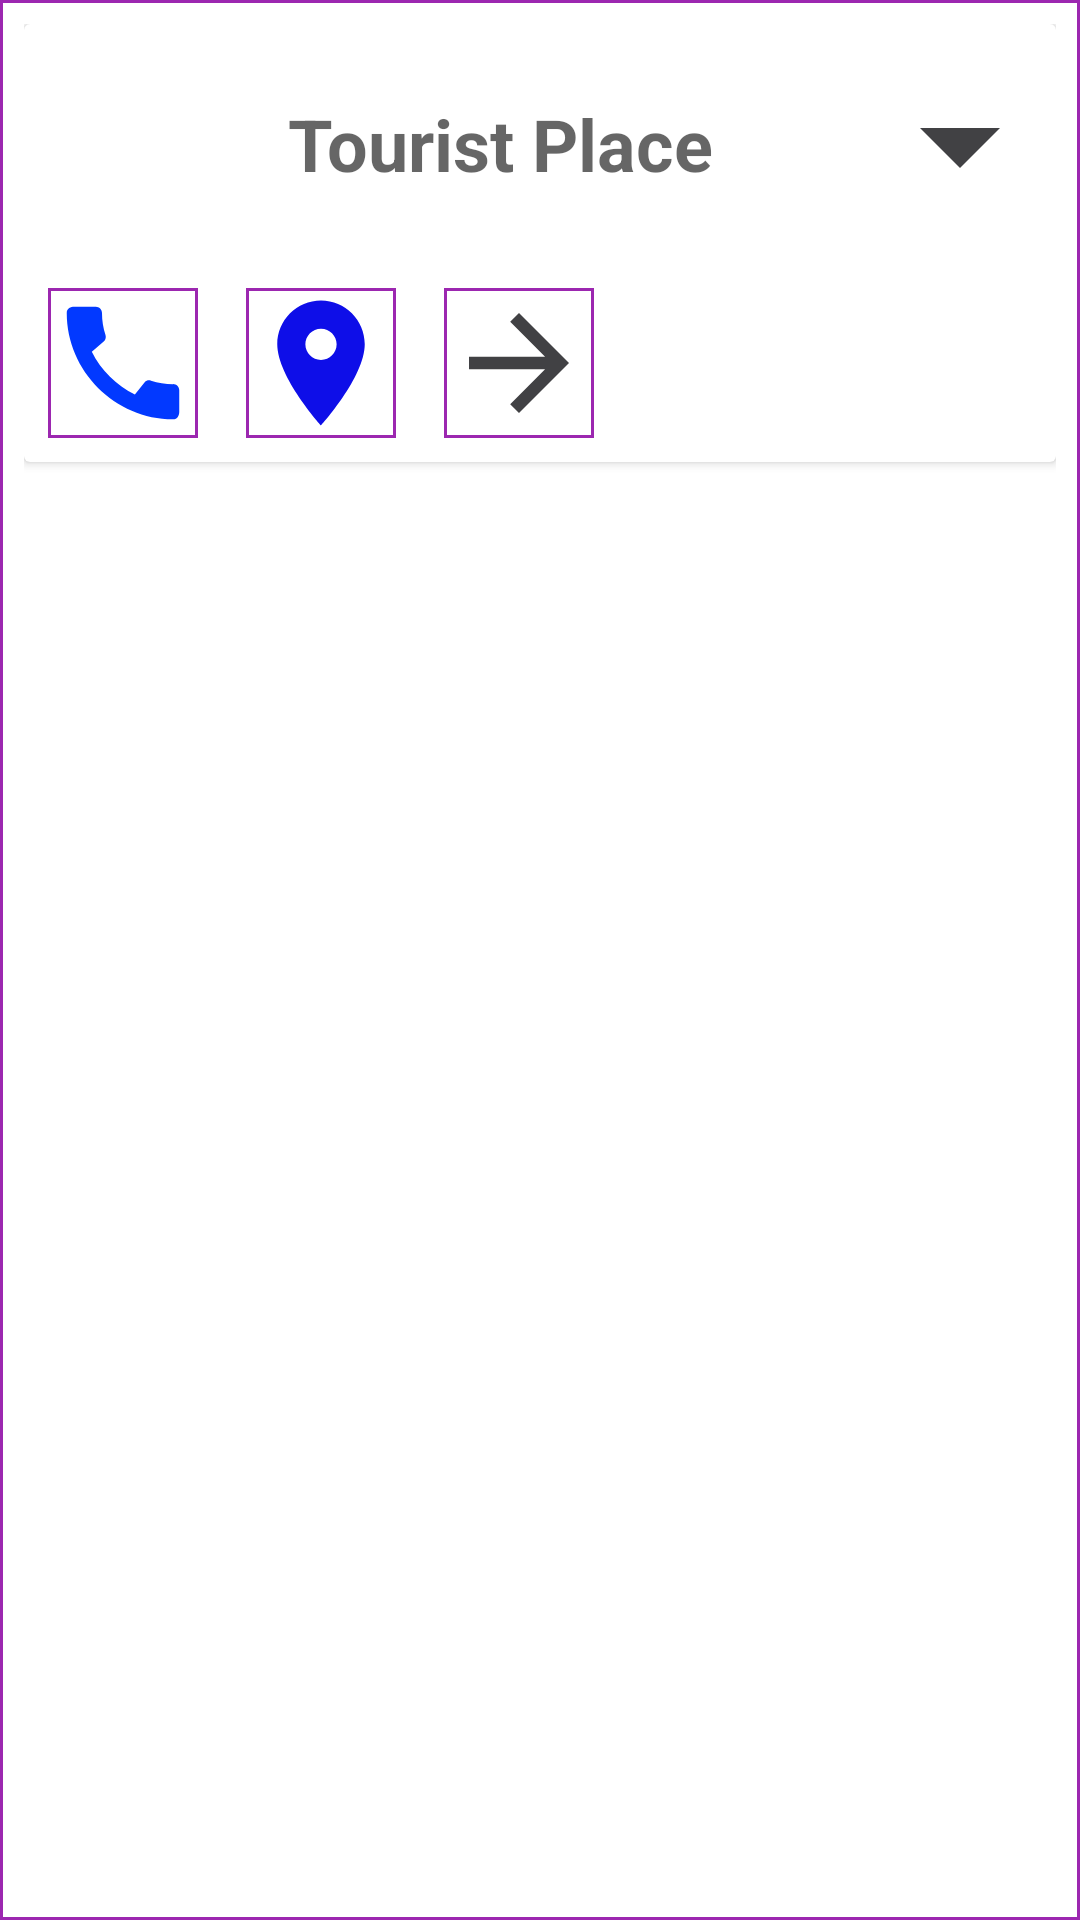

Locate icon controls on the screen. Image size 1080×1920, boxes as {"x1": x1, "y1": y1, "x2": x2, "y2": y2}.
arrow forward: {"x1": 444, "y1": 288, "x2": 594, "y2": 438}
call: {"x1": 48, "y1": 288, "x2": 198, "y2": 438}
location on: {"x1": 246, "y1": 288, "x2": 396, "y2": 438}
